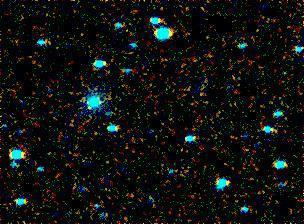star: (73, 91, 103, 121)
